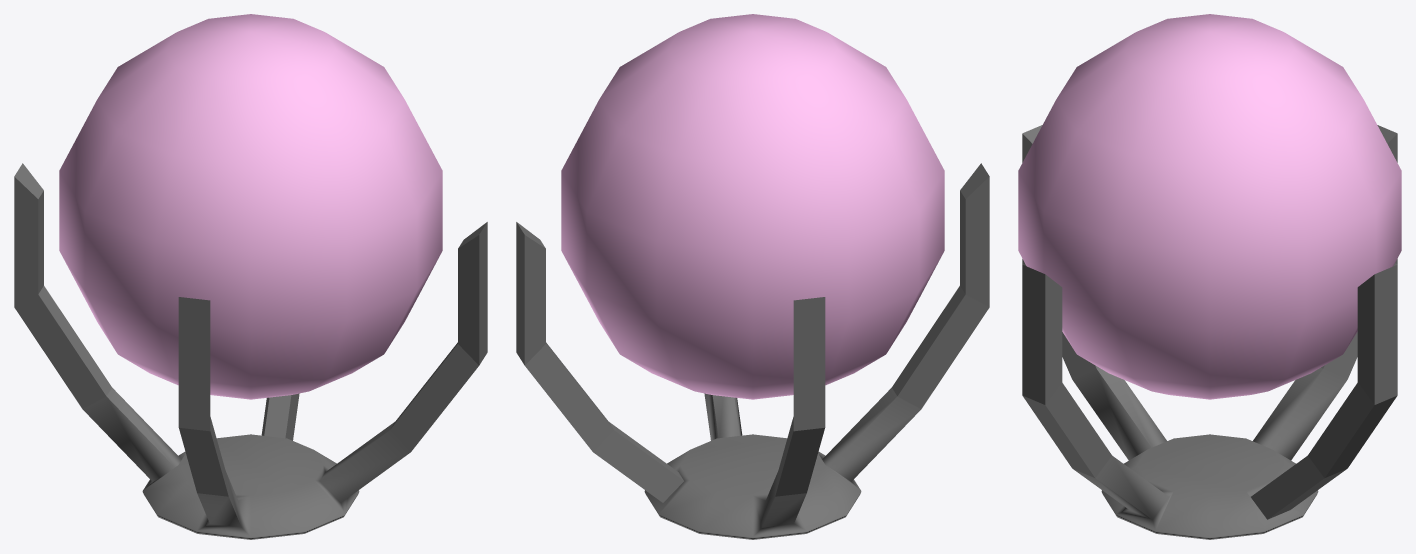
Rendered from Orbe.fbx.
3 views of the same model, side by side, from view 1: azimuth 30°, elevation 25°; view 2: azimuth 150°, elevation 25°; view 3: azimuth 270°, elevation 25° (orthographic).
Parts seen in each view (by area): view 1: orbe do mago, Suporte Orbe; view 2: orbe do mago, Suporte Orbe; view 3: orbe do mago, Suporte Orbe.
Part boxes in pixels (<box>): orbe do mago: <box>59,14,442,399</box>; Suporte Orbe: <box>14,163,487,539</box>; orbe do mago: <box>561,14,944,399</box>; Suporte Orbe: <box>516,163,989,539</box>; orbe do mago: <box>1018,14,1401,399</box>; Suporte Orbe: <box>1022,125,1397,539</box>.
Size of the model in its own units: 33.64 by 44.73 by 33.64.
